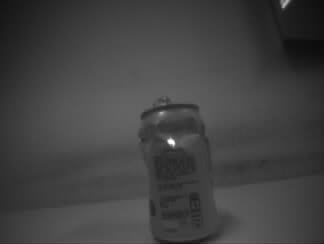Tin can: (137, 95, 221, 244)
